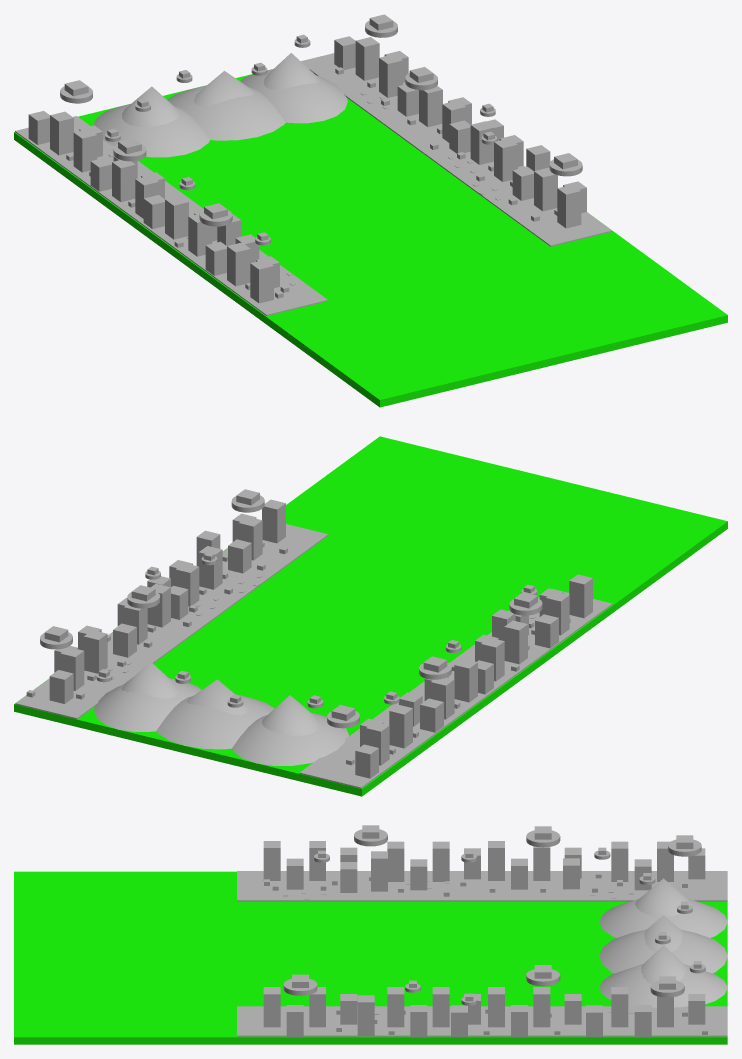
Rendered from MAP.fbx.
The picture shows the model from 3 angles, top to bottom: view 1: azimuth 30°, elevation 25°; view 2: azimuth 150°, elevation 25°; view 3: azimuth 270°, elevation 25°; orthographic projection. The views are drawn at different scales.
Parts seen in each view (by area): view 1: Floor, Buildings, Mountains, CityFloor, MiniEnemies; view 2: Floor, Buildings, Mountains, CityFloor, MiniEnemies; view 3: Floor, Buildings, CityFloor, Mountains, MiniEnemies.
Part boxes in pixels (x1,y1,x2,y2): Floor: (14, 69, 727, 407); Buildings: (28, 36, 586, 303); Mountains: (93, 53, 347, 157); CityFloor: (15, 53, 612, 315); MiniEnemies: (60, 14, 582, 285); Floor: (14, 436, 727, 796); Buildings: (26, 499, 592, 778); Mountains: (94, 661, 348, 765); CityFloor: (15, 524, 612, 788); MiniEnemies: (40, 489, 542, 731); Floor: (14, 871, 727, 1044); Buildings: (263, 841, 707, 1037); CityFloor: (237, 871, 727, 1036); Mountains: (599, 878, 727, 1007); MiniEnemies: (283, 825, 705, 1014).
Size of the model in its own units: 23.25 by 3.85 by 42.03.
